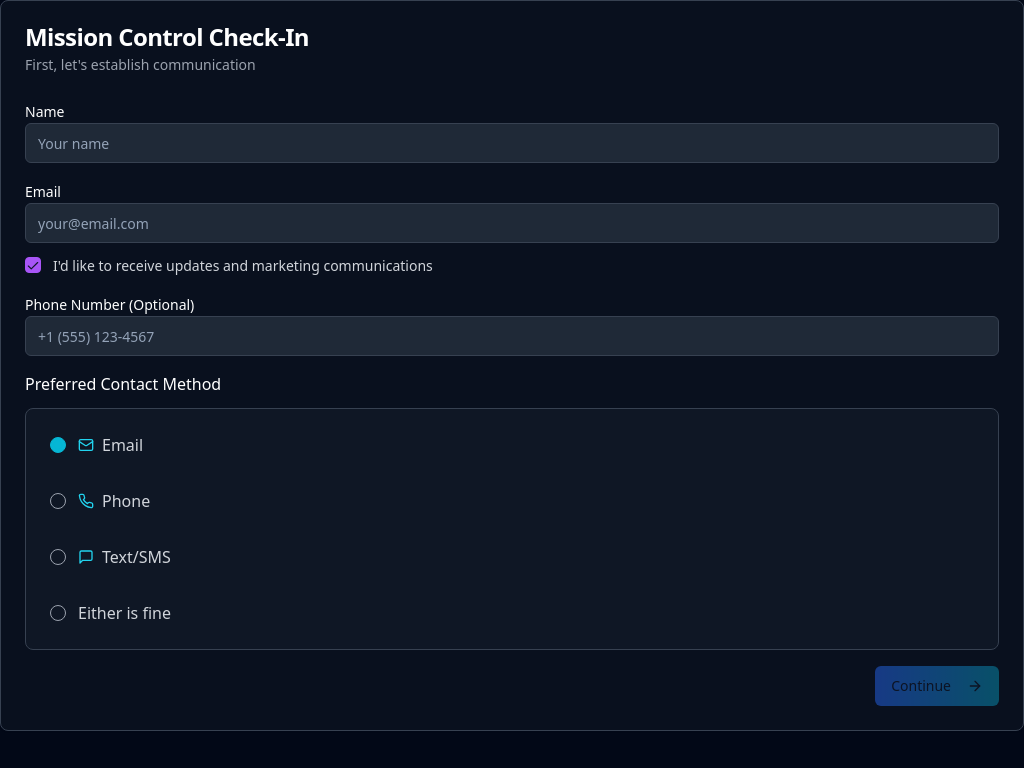
Test: LaunchControlQualificationForm › Budget Selection Step › renders budget options correctly
The image size is (1024, 768).
Note: Fill in contact form first to get to budget step
Type "John Doe" into the field labelled "Name" at [512, 143], box [25, 123, 999, 163]
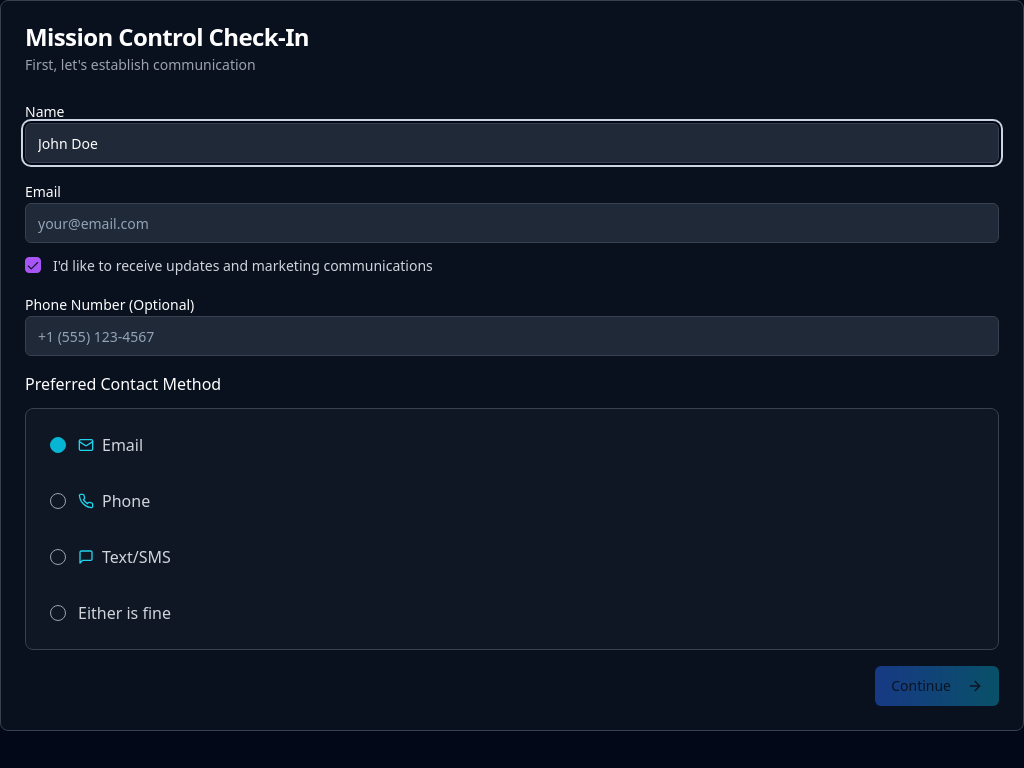
Type "john@example.com" into the field with placeholder "your@email.com" at [512, 223], box [25, 203, 999, 243]
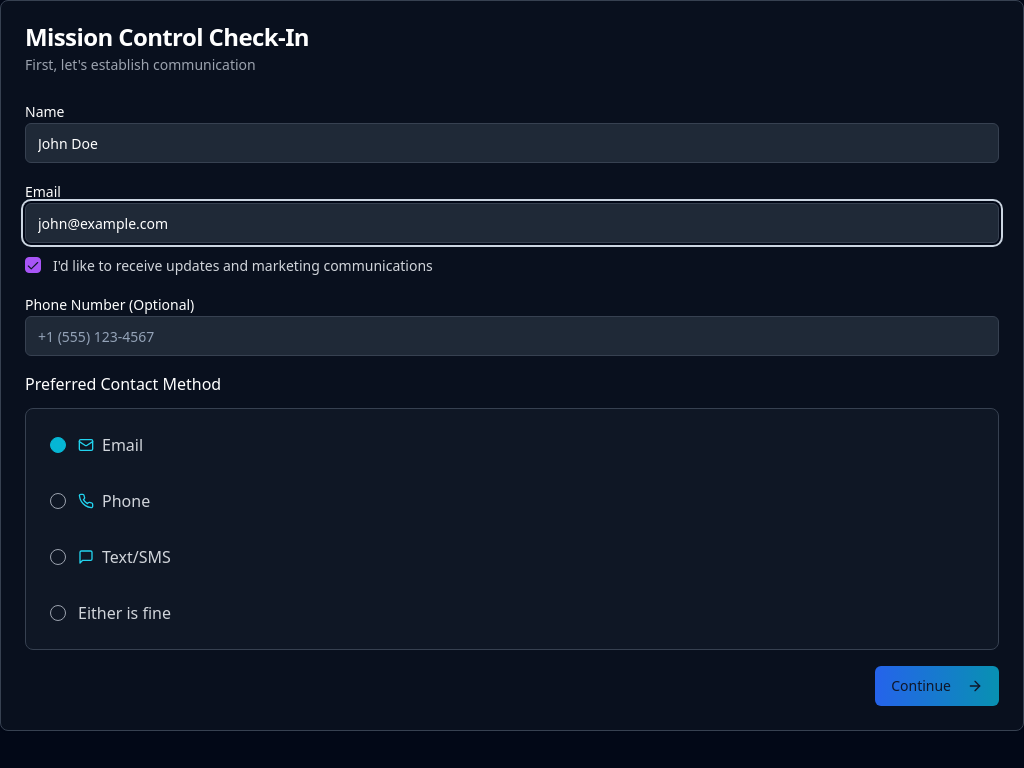
Click the button "Continue" at [937, 686], box [875, 666, 999, 706]
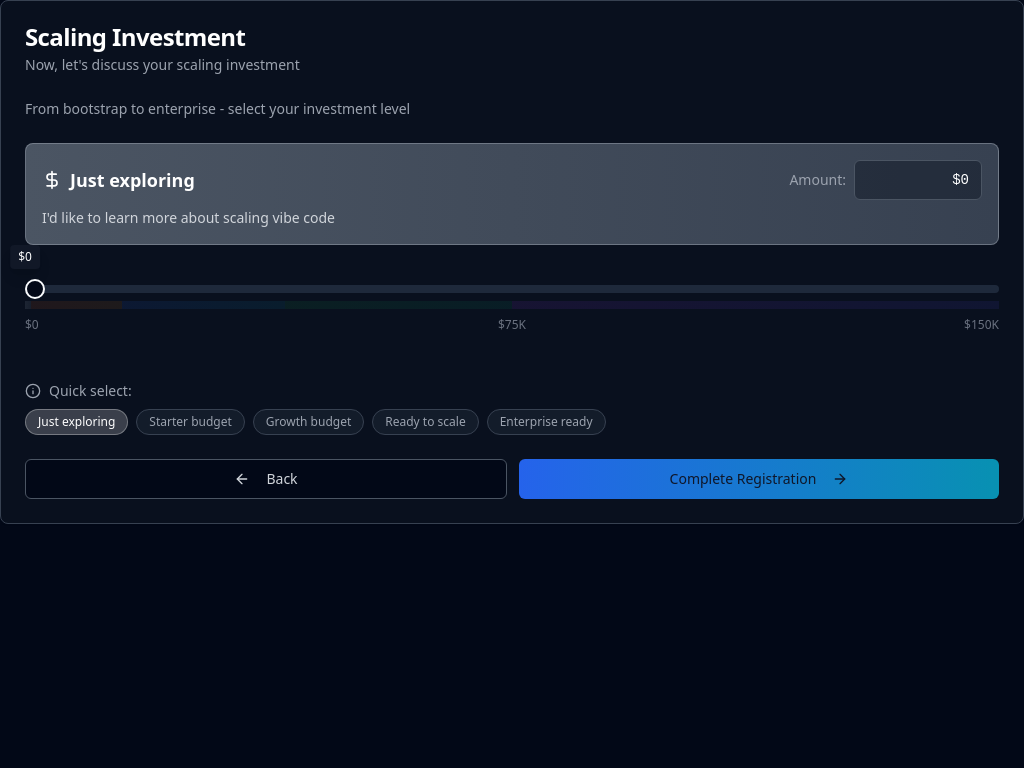
Expected: the heading "Scaling Investment" is shown, [25, 20, 245, 53]
Expected: the text "Just exploring" is shown 2 times, [70, 166, 195, 194]; [25, 409, 128, 435]
Expected: the button "Starter budget" is shown, [136, 409, 245, 435]
